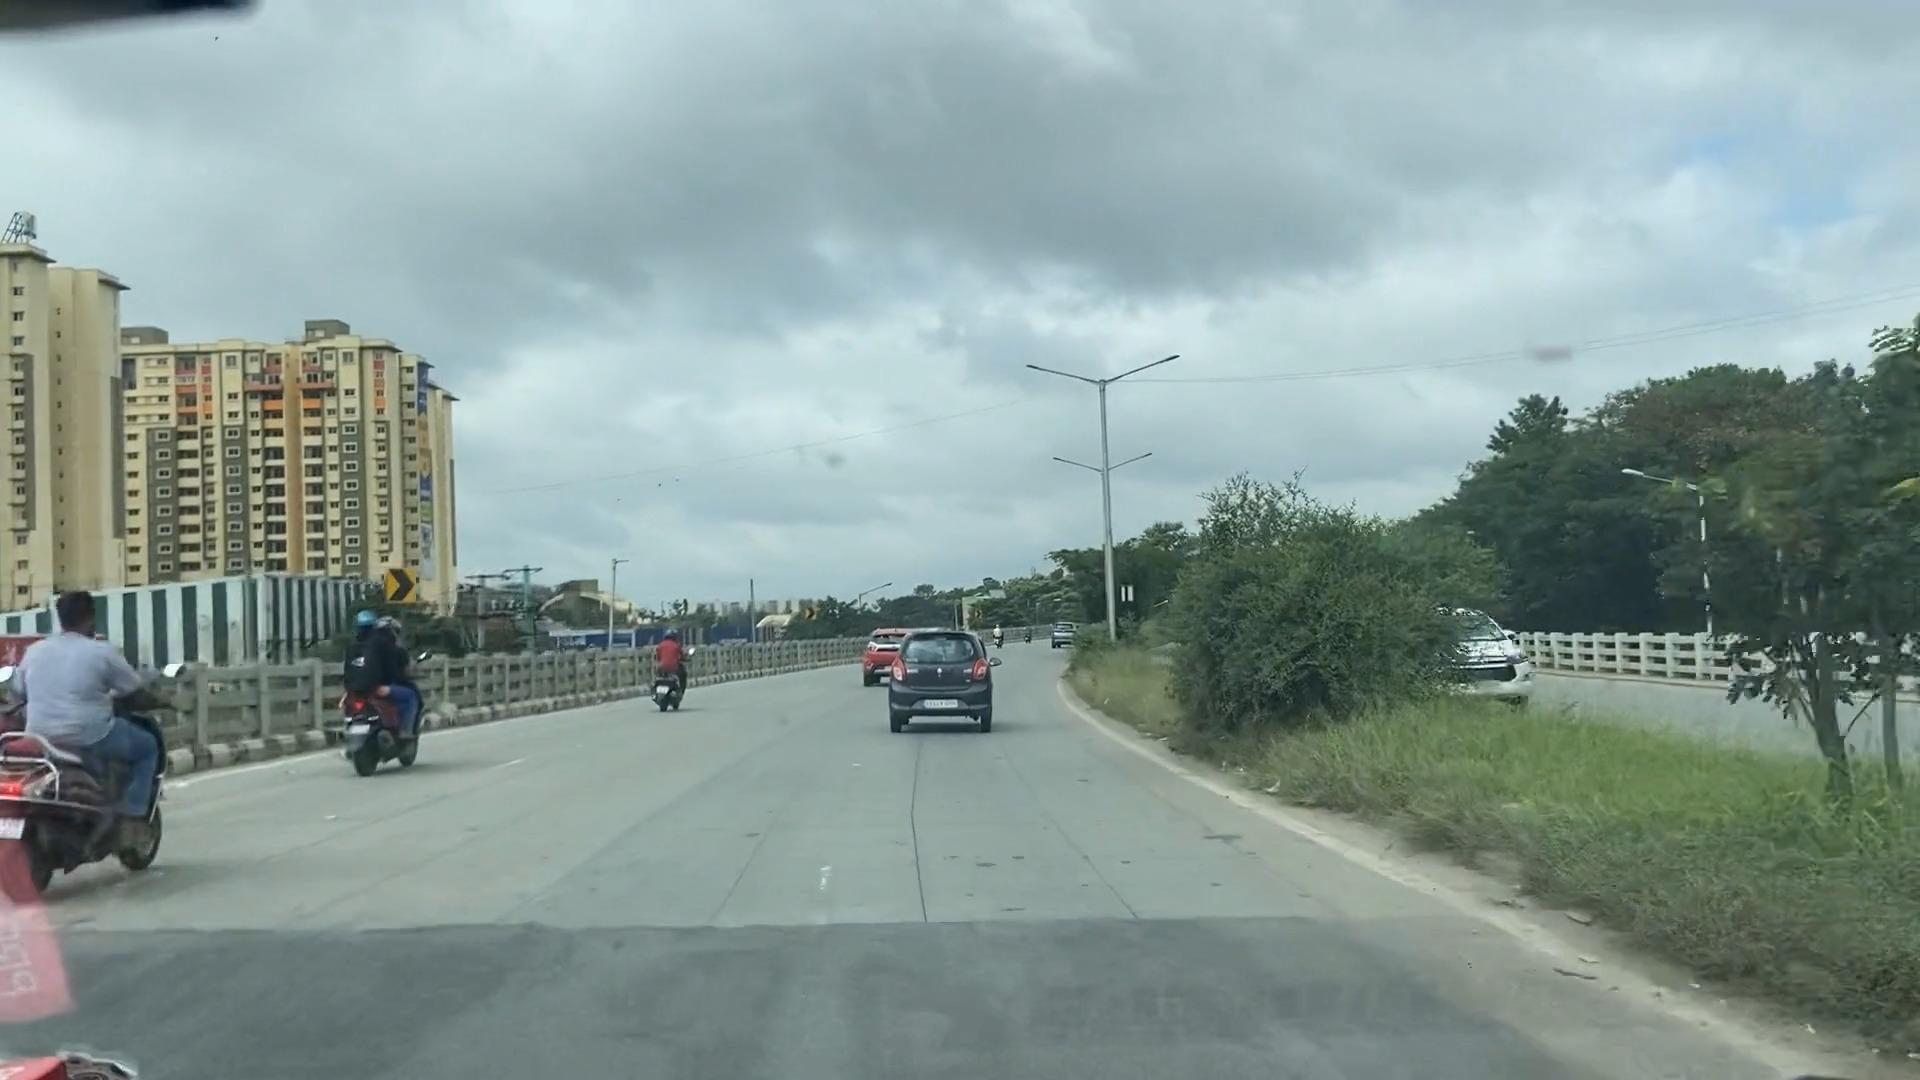LMV: (30, 607, 175, 849), (342, 624, 415, 744), (894, 632, 984, 724), (655, 632, 686, 703)
